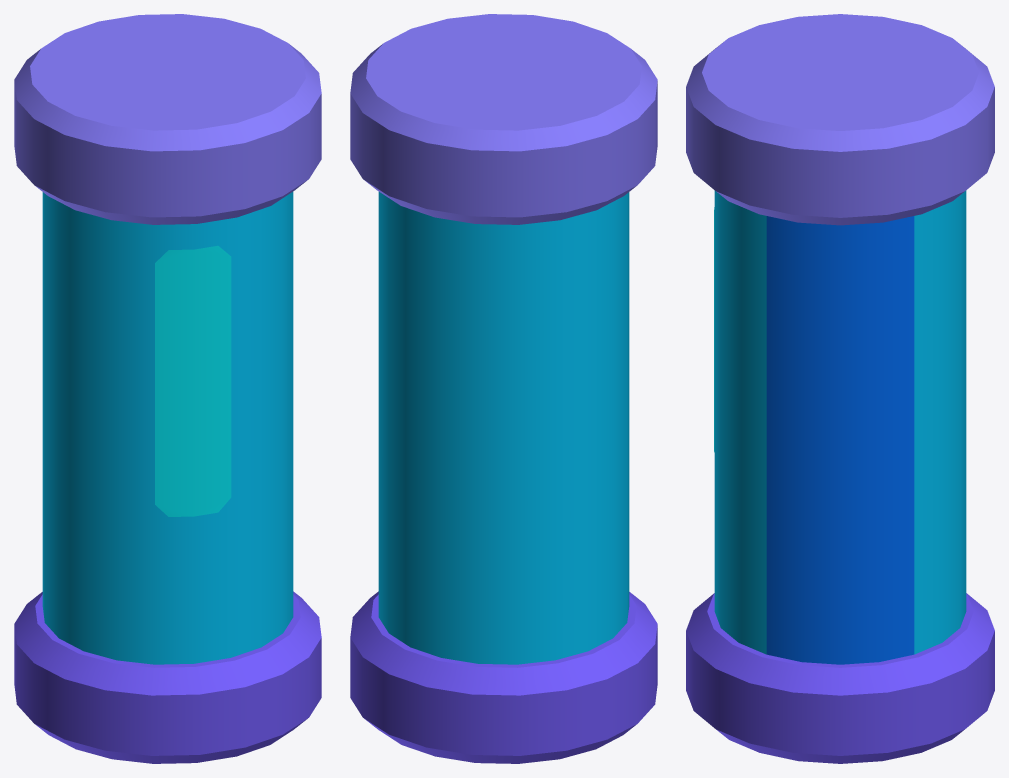
The model's file is Building_020_d.fbx.
3 renders of one model, left to right at view 1: azimuth 30°, elevation 25°; view 2: azimuth 150°, elevation 25°; view 3: azimuth 270°, elevation 25°, orthographic.
Visible parts, largest first — view 1: Building_020_d; view 2: Building_020_d; view 3: Building_020_d.
Boxes of the visible parts, x1,y1,x2,y2 form: Building_020_d: (14, 14, 321, 763); Building_020_d: (350, 14, 657, 763); Building_020_d: (686, 14, 994, 763).
Size of the model in its own units: 3.44 by 7.78 by 3.44.
